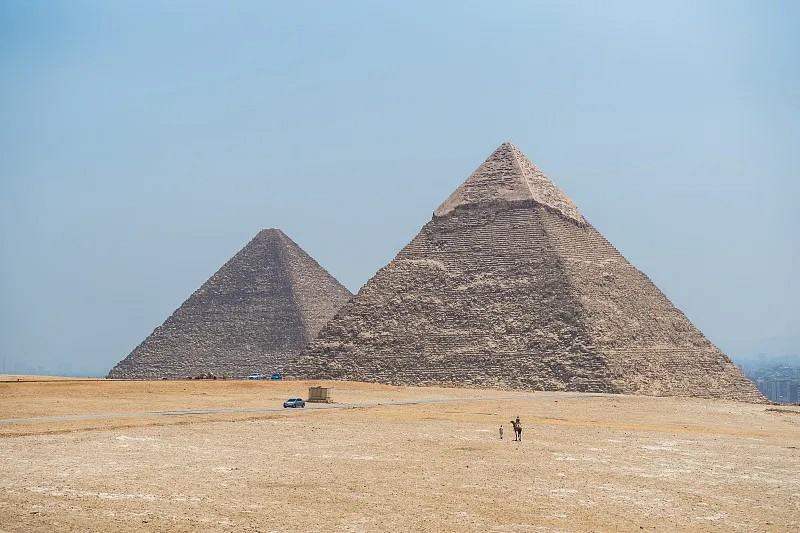Pyramid: (279, 142, 774, 406), (107, 227, 356, 379)
